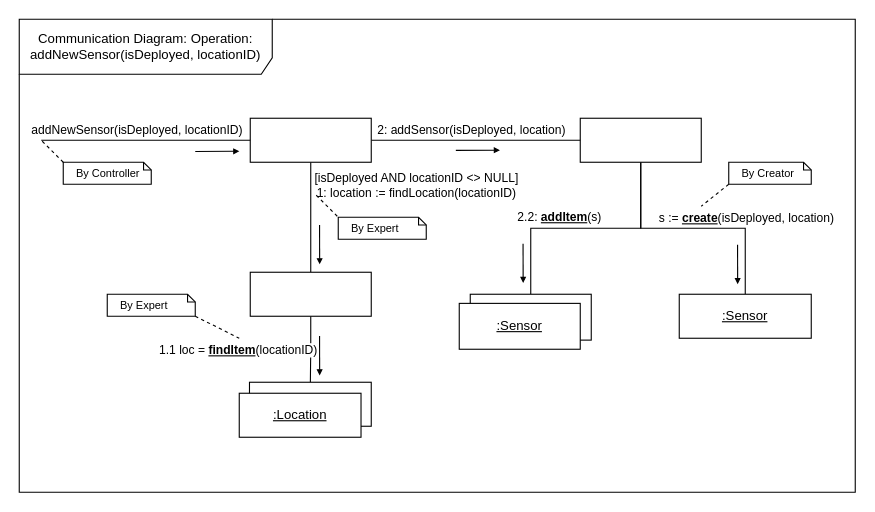
Image size: 875x512. Some labels were removed from this diagram. Here are the shapes that lost their labels. From the top down, the centre of each, then its label:
At point 310,139: ":Console".
At point 640,139: ":SensorRegistry".
At point 310,293: ":LocationRegistry".
